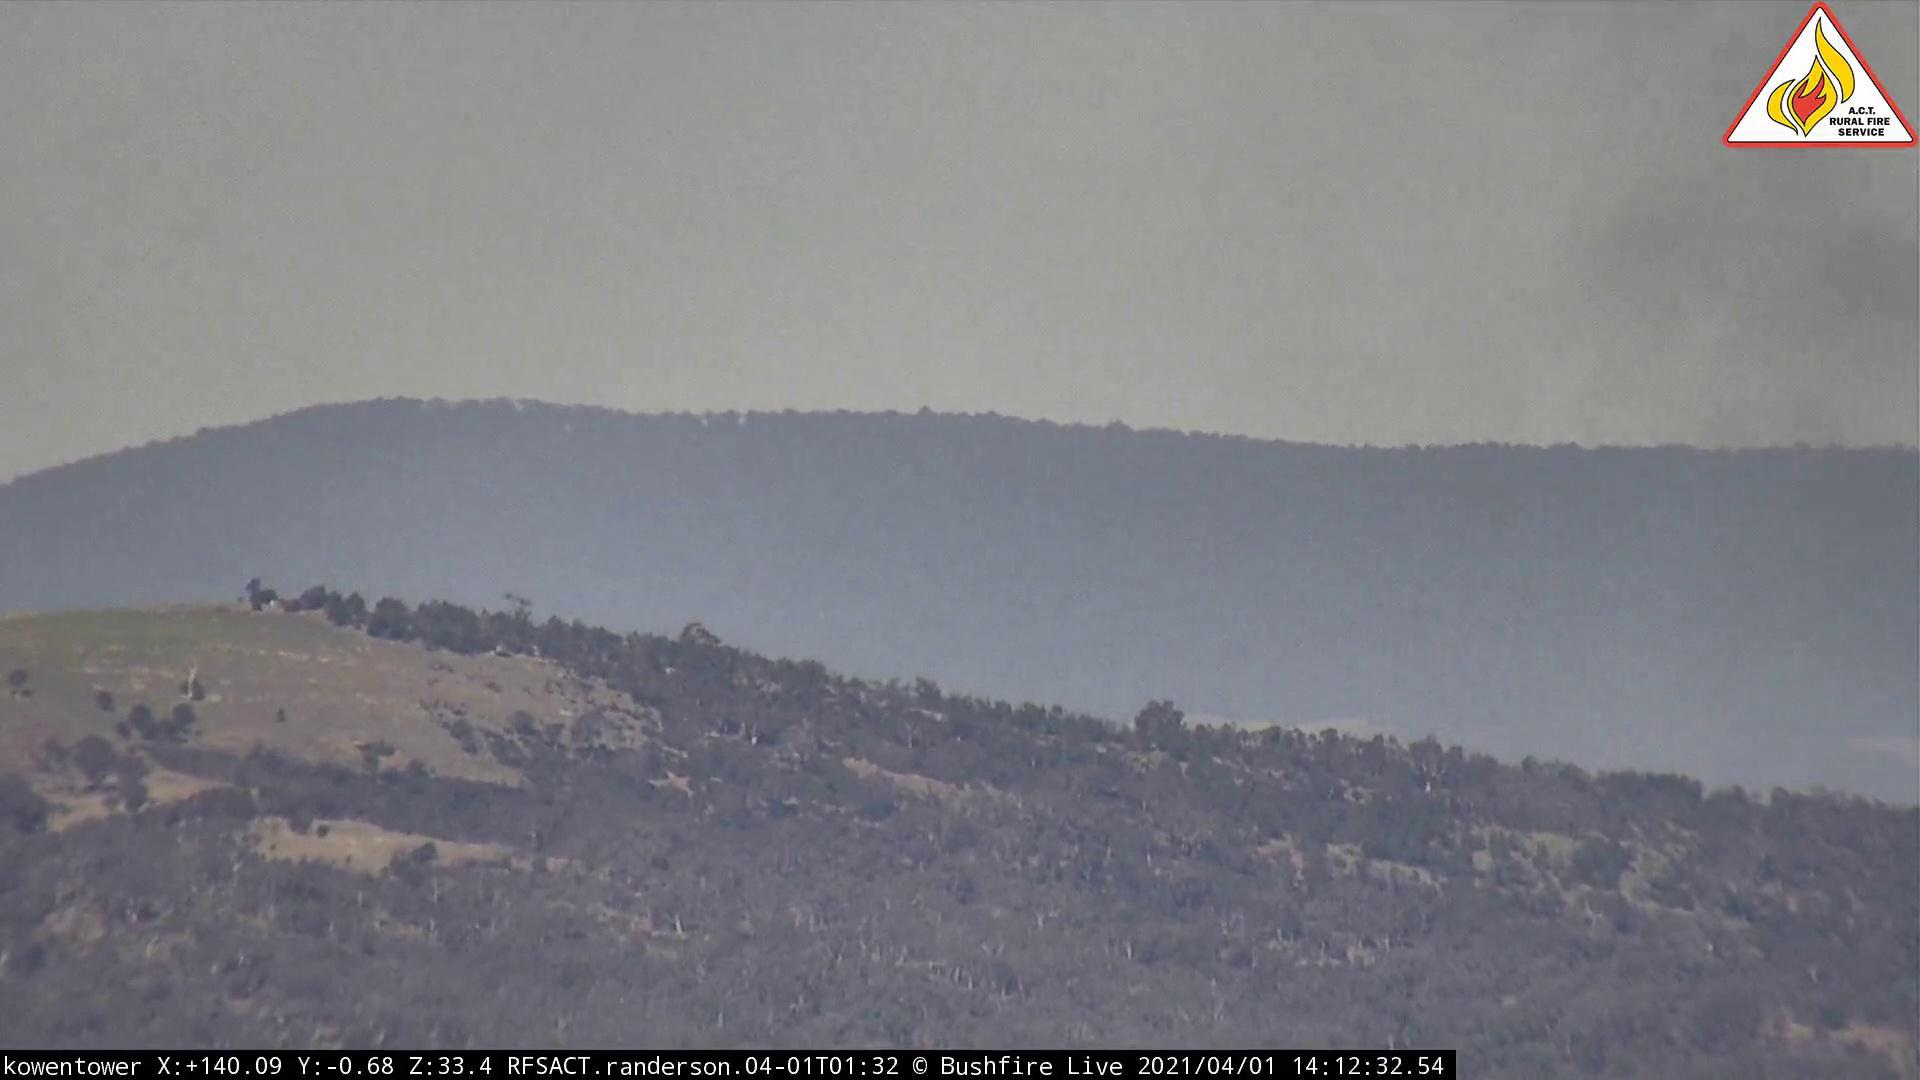Smoke: (1145, 179, 1920, 796)
